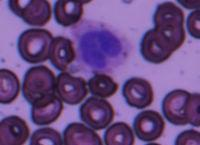N: (72, 17, 130, 74)
